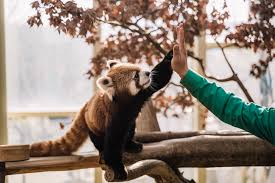redPanda: (26, 35, 174, 169)
